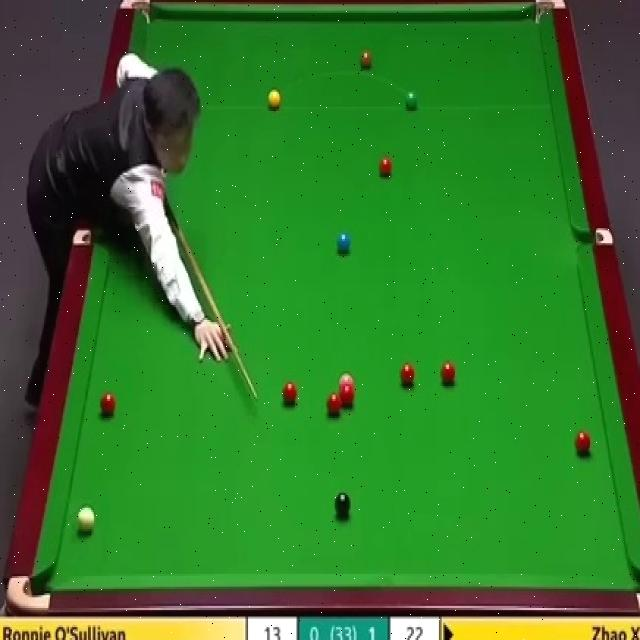black-ball: (334, 491, 352, 518)
blue-ball: (335, 231, 350, 254)
brown-ball: (360, 50, 372, 71)
green-ball: (403, 89, 418, 111)
pink-ball: (338, 373, 355, 389)
red-ball: (100, 391, 118, 420), (376, 155, 394, 179), (399, 363, 415, 387), (440, 361, 455, 386), (338, 386, 355, 408), (282, 382, 298, 405), (575, 433, 590, 456), (327, 394, 342, 412)
white-ball: (76, 504, 94, 532)
yellow-ball: (267, 88, 281, 110)
